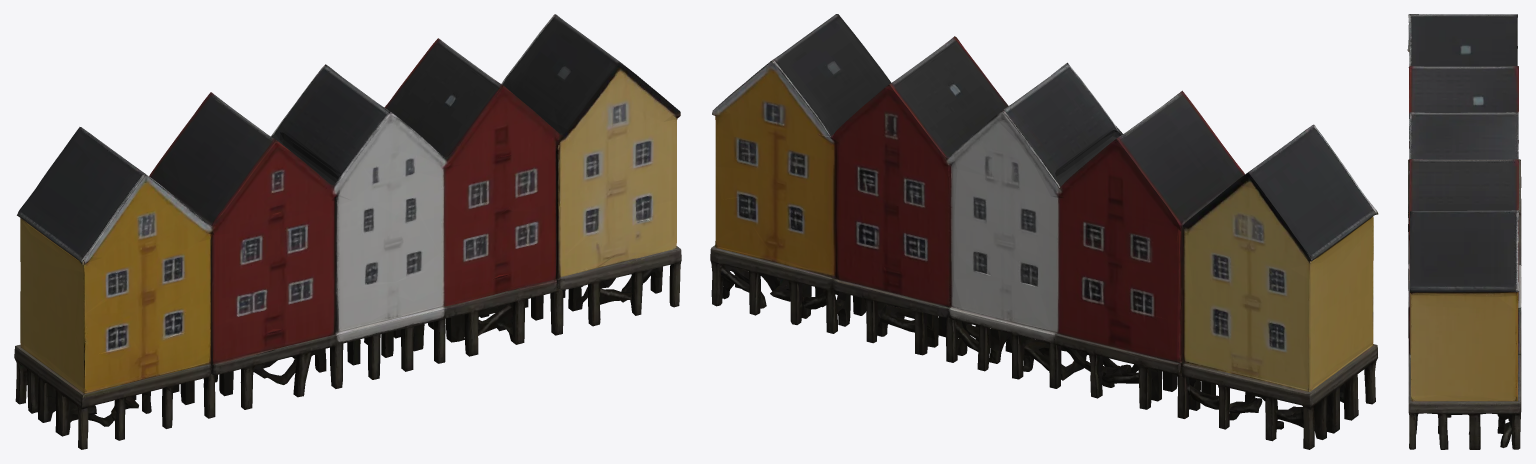
Rendered from wharves.glb.
The picture shows the model from 3 angles, left to right: view 1: azimuth 30°, elevation 25°; view 2: azimuth 150°, elevation 25°; view 3: azimuth 270°, elevation 25°; orthographic projection. The views are drawn at different scales.
Parts seen in each view (by area): view 1: geometry_0; view 2: geometry_0; view 3: geometry_0.
Boxes of the visible parts, left/top/right/bottom form: geometry_0: left=14, top=14, right=681, bottom=449; geometry_0: left=710, top=14, right=1378, bottom=449; geometry_0: left=1407, top=14, right=1521, bottom=449.
Size of the model in its own units: 0.9991 by 0.4208 by 0.1973.
1 material, 1 textured.
